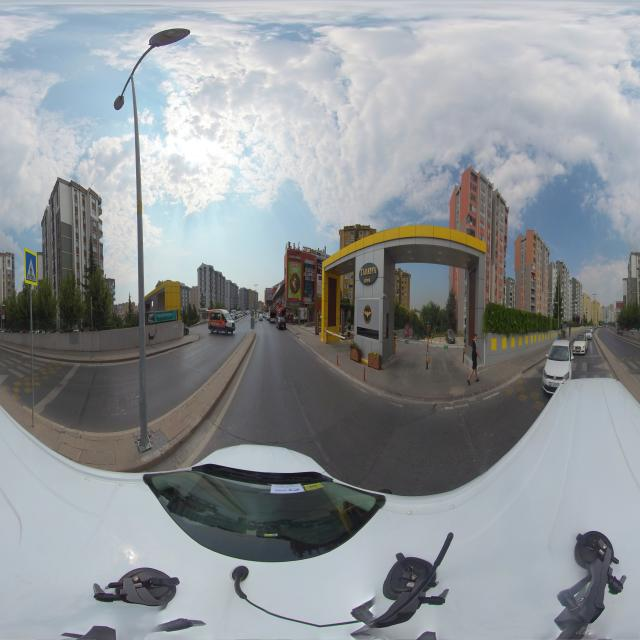SignStore: (287, 302, 300, 307)
